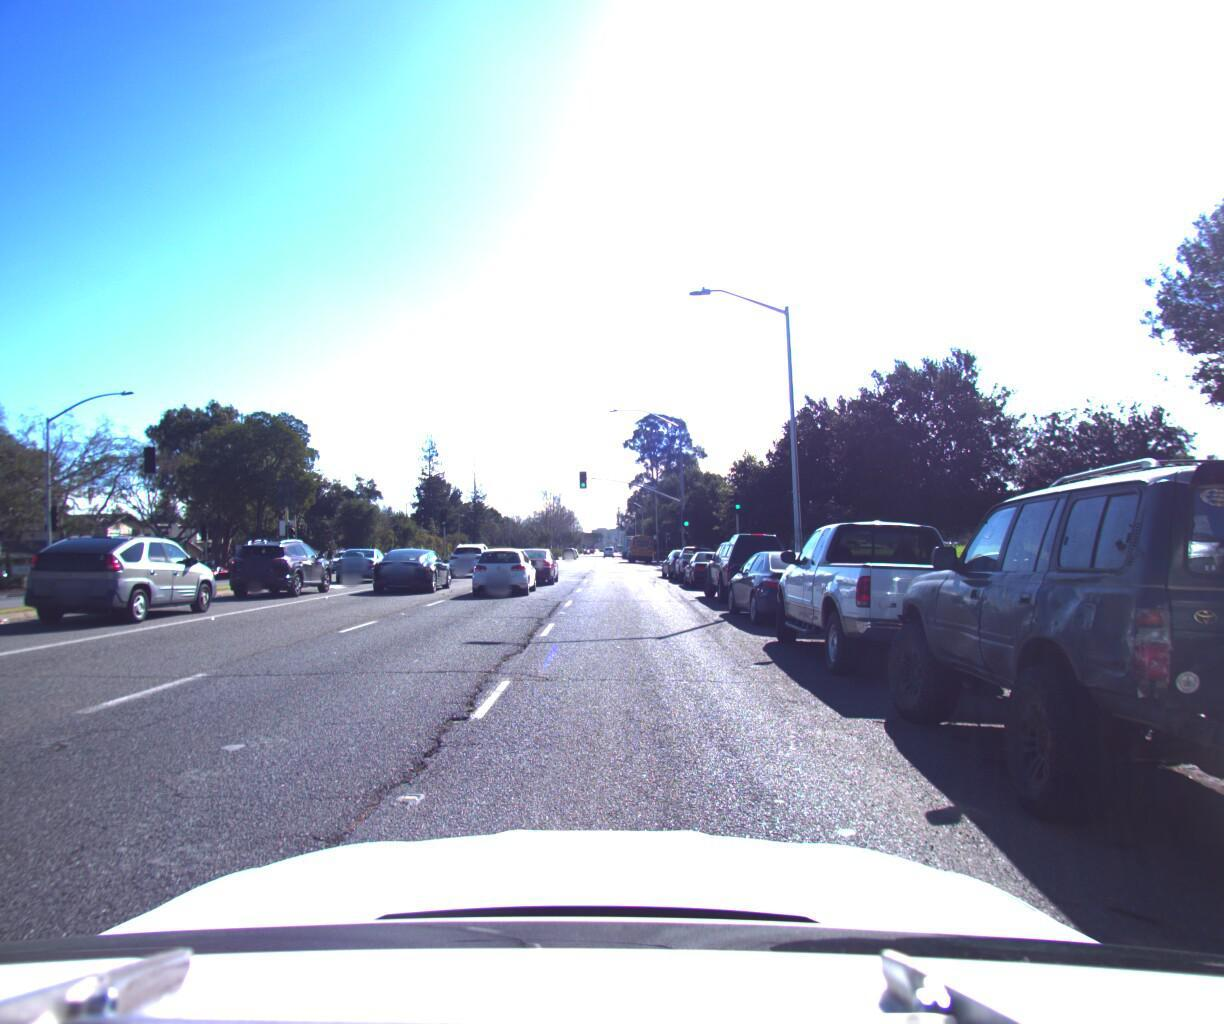car: (866, 422, 1224, 916), (761, 500, 1049, 690), (0, 521, 231, 631), (715, 538, 859, 627), (699, 521, 796, 600), (220, 532, 339, 595), (368, 537, 453, 589), (467, 533, 539, 586), (679, 540, 741, 584), (503, 537, 561, 578), (441, 528, 496, 568), (671, 535, 724, 577), (331, 538, 388, 576), (657, 537, 710, 571)
